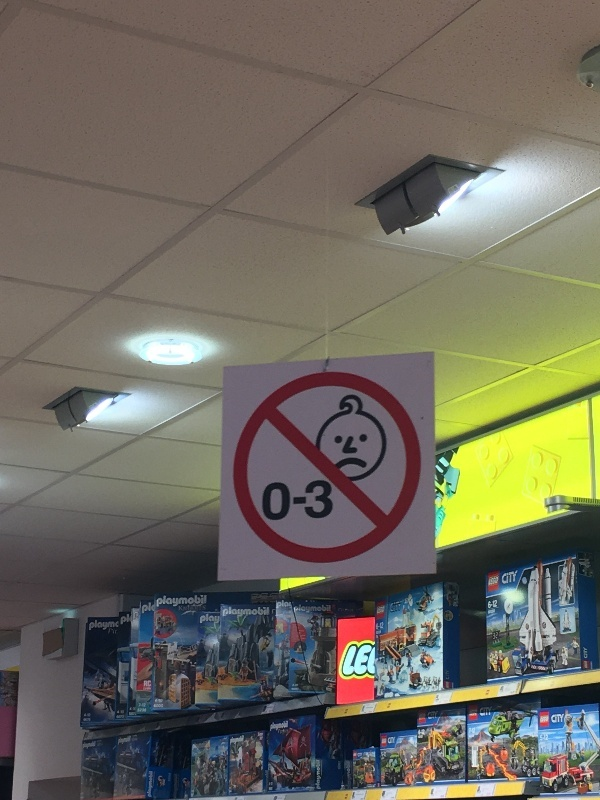text: (353, 638, 368, 686), (273, 480, 288, 523), (289, 480, 304, 523), (305, 480, 320, 523), (321, 480, 333, 523), (369, 638, 378, 686), (262, 480, 272, 523), (149, 769, 160, 799), (161, 594, 176, 608), (177, 594, 192, 608), (193, 594, 207, 608), (273, 720, 289, 732), (348, 638, 352, 686), (225, 605, 240, 617), (241, 605, 256, 617), (97, 621, 112, 633), (502, 569, 512, 586), (305, 604, 320, 615), (129, 611, 140, 626), (257, 605, 270, 617), (257, 732, 272, 742), (390, 600, 400, 614), (145, 600, 155, 614), (209, 614, 221, 625), (83, 740, 96, 750), (583, 646, 592, 660), (316, 759, 320, 790), (277, 600, 288, 611), (294, 604, 304, 615), (321, 604, 331, 615), (230, 735, 240, 746), (470, 707, 480, 718), (481, 707, 493, 716), (121, 611, 128, 626), (513, 569, 519, 586), (388, 736, 400, 744), (119, 736, 128, 746), (551, 714, 560, 724), (488, 599, 496, 610), (200, 614, 208, 625), (113, 621, 120, 633), (469, 728, 480, 735), (90, 621, 96, 633), (489, 577, 496, 586), (377, 605, 384, 614), (426, 710, 432, 720), (433, 710, 439, 720), (376, 623, 384, 630), (156, 594, 160, 608), (145, 680, 152, 688), (289, 600, 294, 611), (545, 715, 550, 724), (241, 735, 245, 746), (141, 600, 144, 614), (561, 714, 565, 724), (540, 715, 544, 724), (540, 734, 544, 743), (545, 734, 549, 743), (321, 759, 322, 790), (129, 736, 132, 746), (401, 600, 403, 614), (270, 720, 272, 732), (497, 577, 499, 586), (223, 605, 224, 617), (497, 599, 498, 610), (385, 605, 386, 614)
